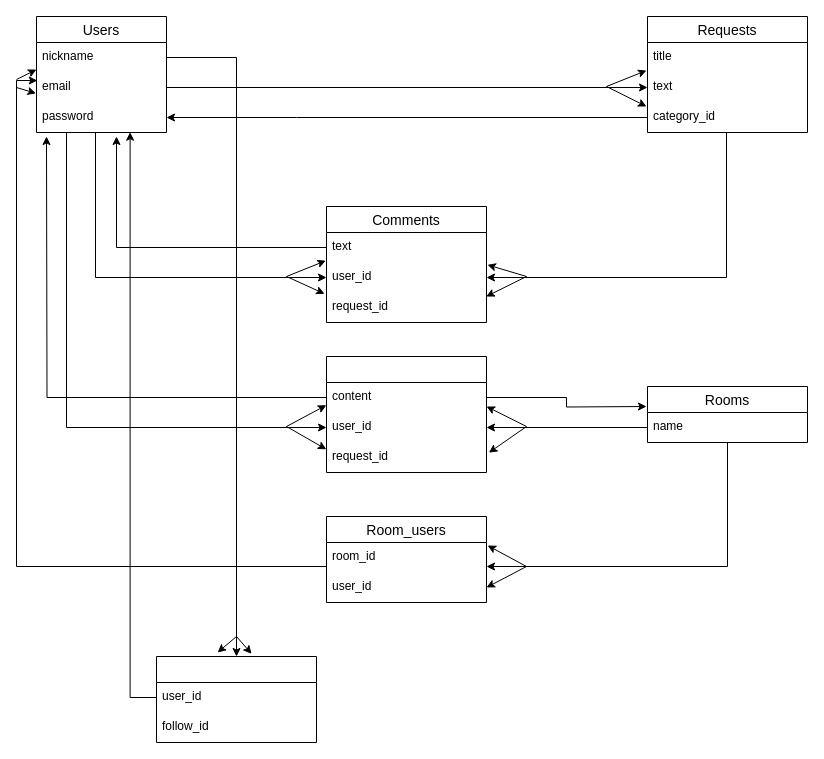
The diagram is 824 pixels wide and 759 high, and some of its shapes have lost their labels. The shapes that lost their labels are listed below. From the top down, each one's box as (x1, y1, x2, y2) in pixels, then its label:
(326, 356, 486, 472): Messages
(156, 656, 316, 742): Releationships
